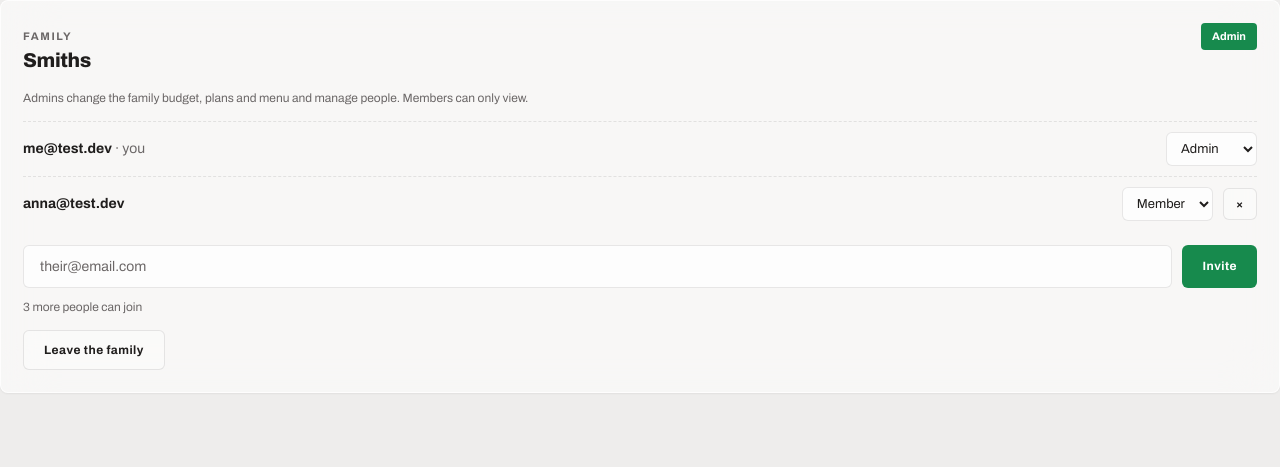
it: family section on the profile › explains why the last admin cannot step down
Select "Member" in the dropdown named "Role of me@test.dev": x=1212, y=148 [1166, 132, 1257, 166]
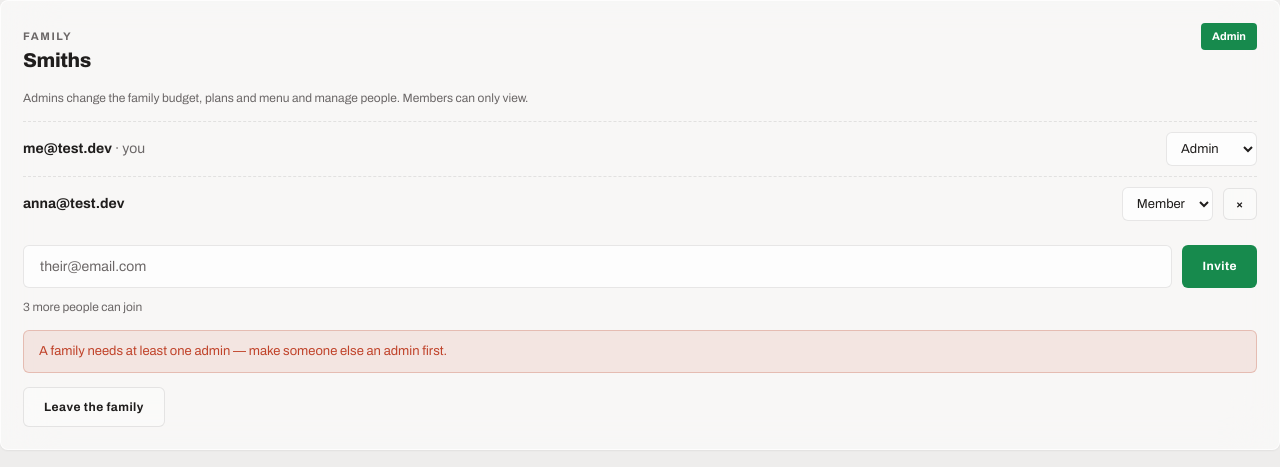
expect the text "needs at least one admin" is shown: met, box [39, 344, 447, 358]
